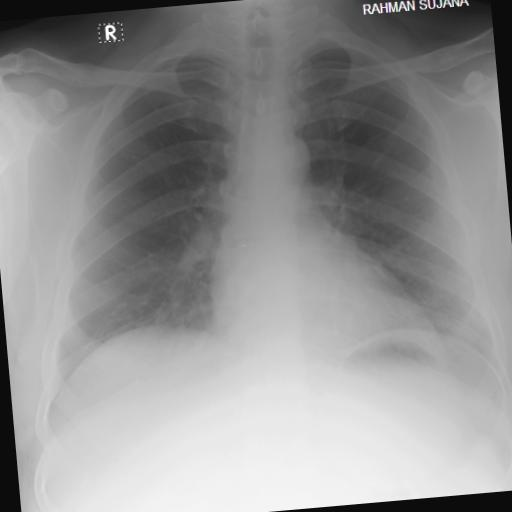normal: (7, 0, 512, 446)
